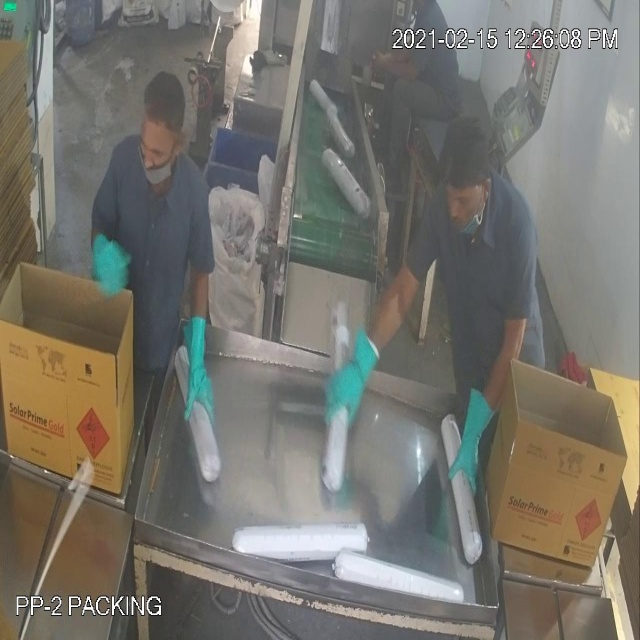Guantes: (175, 289, 234, 442), (317, 337, 385, 444), (450, 379, 495, 508), (95, 226, 135, 312)
Sin_guantes: (366, 46, 416, 88)
